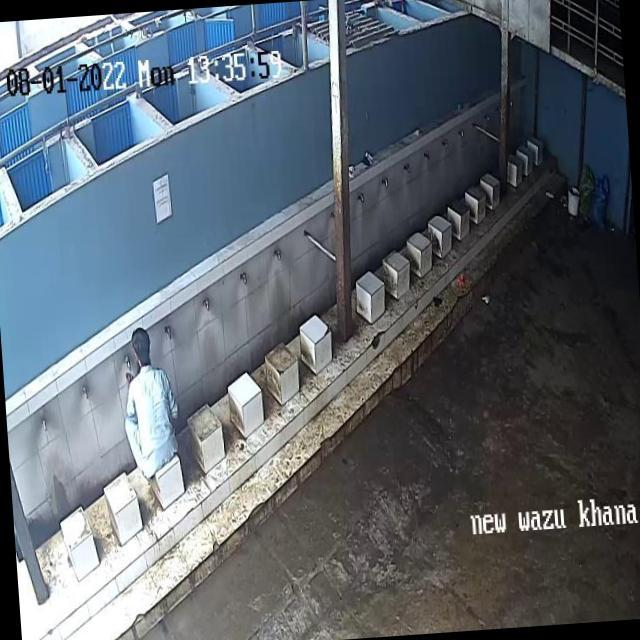person: (128, 328, 180, 466)
